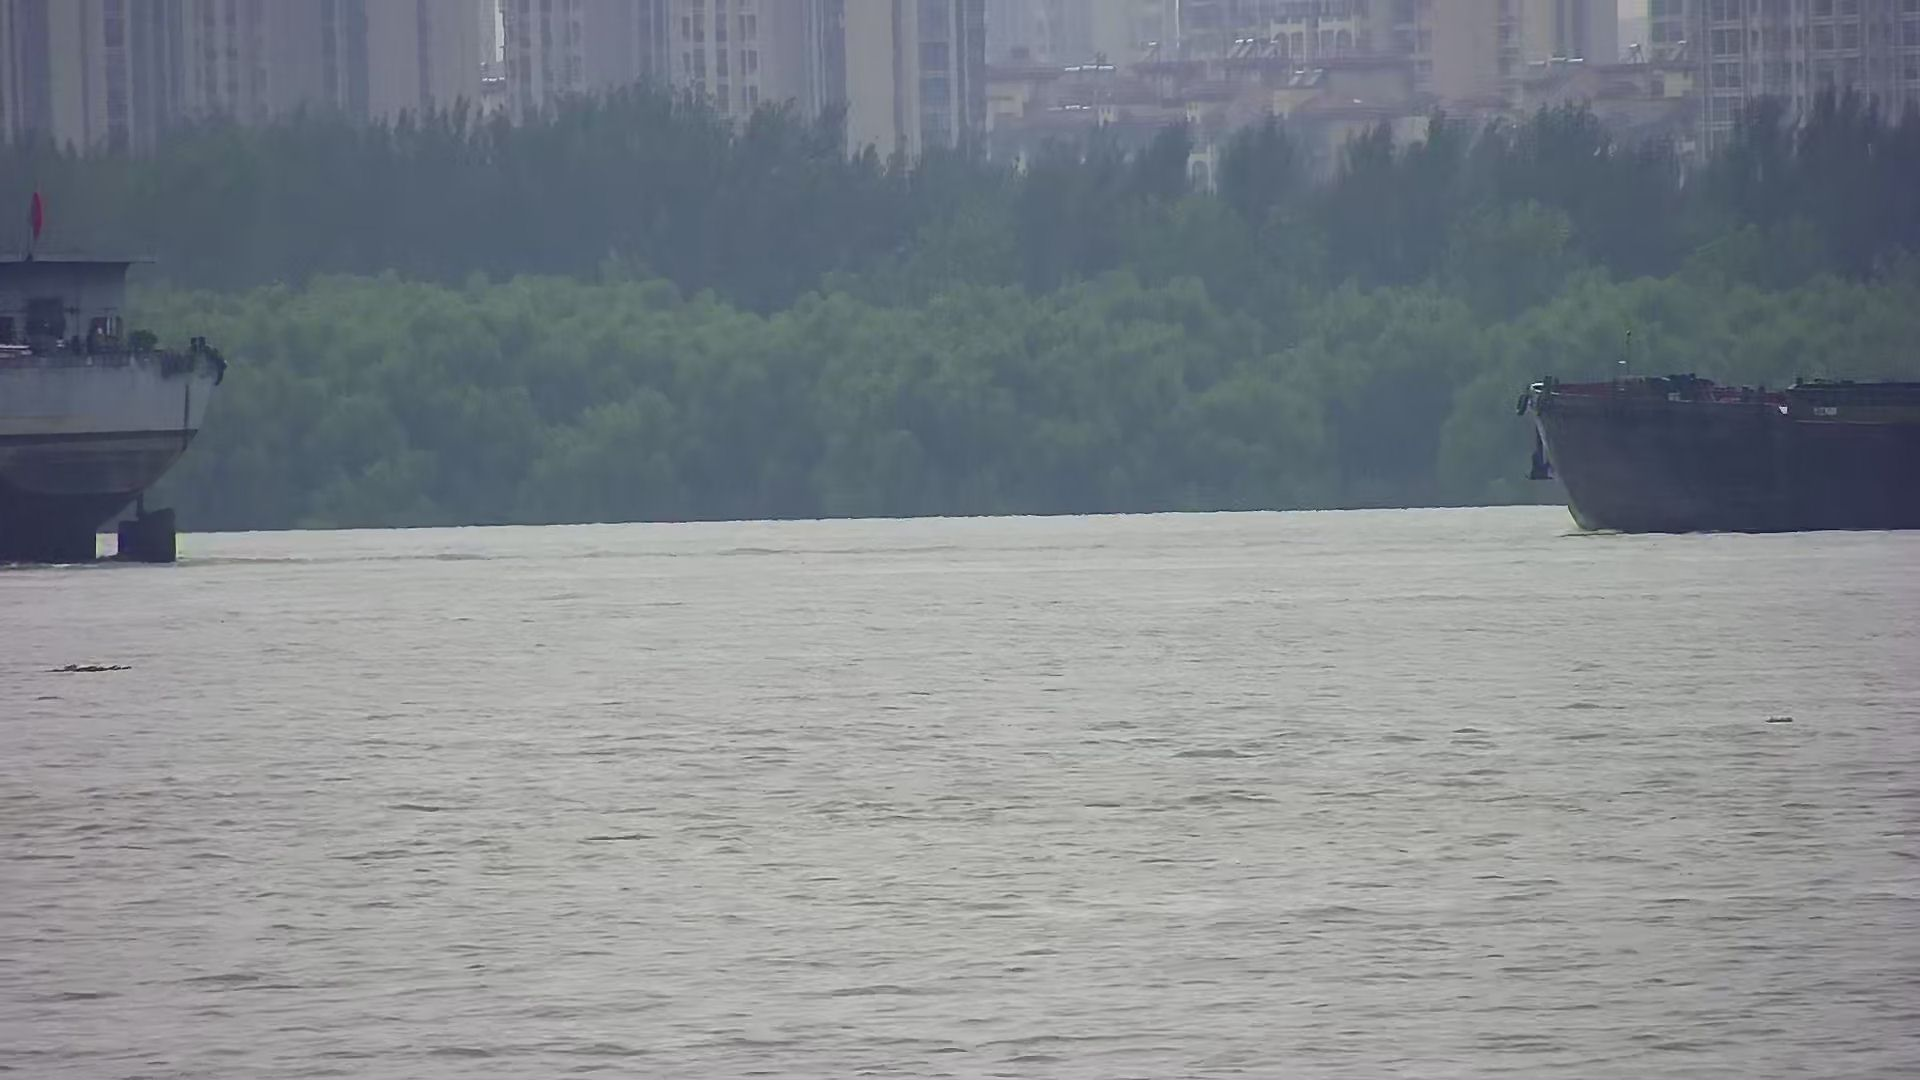rubbish: (44, 661, 132, 673)
ship: (1, 182, 228, 564), (1519, 334, 1920, 535)
